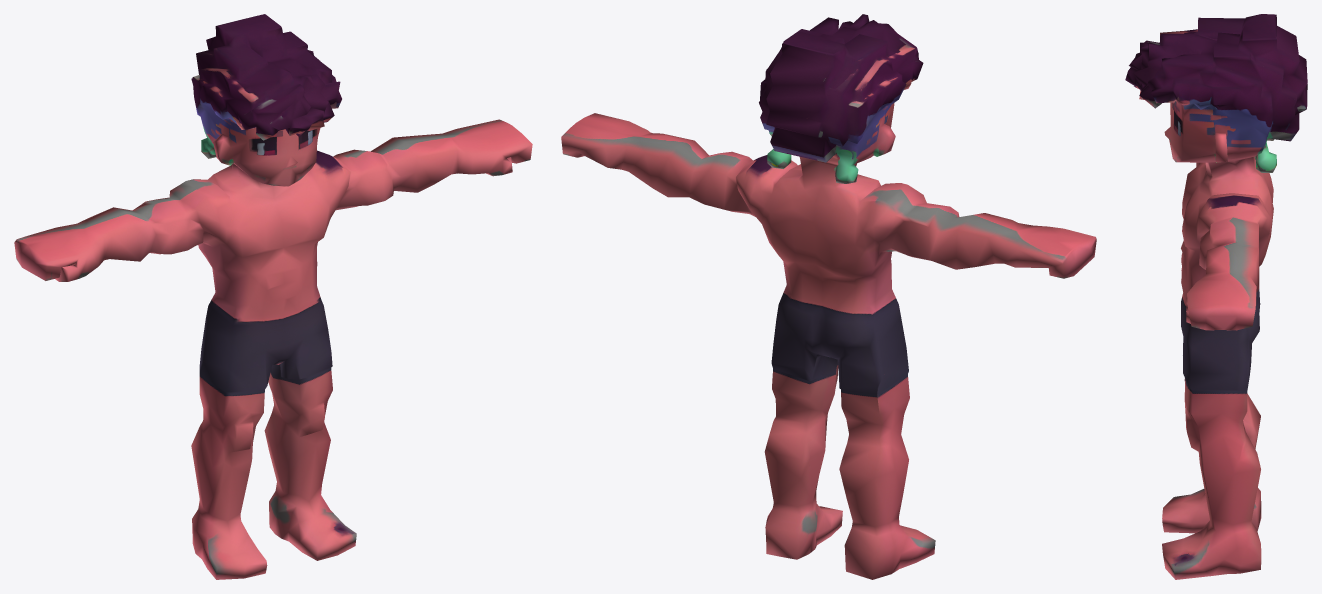
The model's file is Pomi_Base_V05_Canonico.glb.
The picture shows the model from 3 angles, left to right: view 1: azimuth 30°, elevation 25°; view 2: azimuth 150°, elevation 25°; view 3: azimuth 270°, elevation 25°; orthographic projection. The views are drawn at different scales.
Visible parts, largest first — view 1: tripo_node_8b195cec-2536-4ee3-b4ed-724693ae1758; view 2: tripo_node_8b195cec-2536-4ee3-b4ed-724693ae1758; view 3: tripo_node_8b195cec-2536-4ee3-b4ed-724693ae1758.
Part boxes in pixels (bbox=[...]): tripo_node_8b195cec-2536-4ee3-b4ed-724693ae1758: bbox=[14, 14, 532, 579]; tripo_node_8b195cec-2536-4ee3-b4ed-724693ae1758: bbox=[561, 14, 1096, 579]; tripo_node_8b195cec-2536-4ee3-b4ed-724693ae1758: bbox=[1125, 14, 1307, 579].
Size of the model in its own units: 1 by 0.9874 by 0.3133.
Materials: 1 (1 with a texture image).
